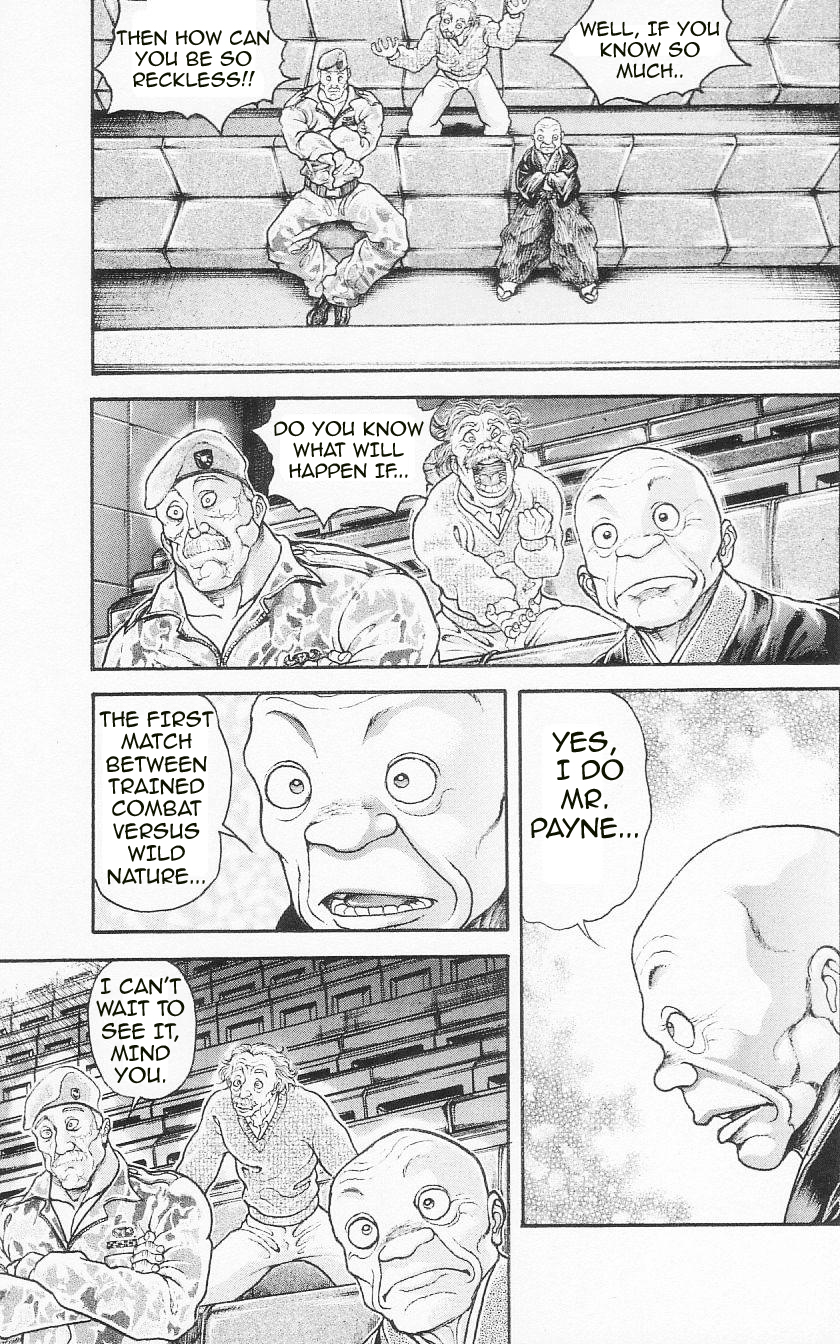Baloon: (504, 690, 651, 947), (92, 692, 235, 916), (247, 400, 457, 531), (94, 1, 302, 133), (543, 1, 751, 102), (86, 957, 198, 1106)
Vignetta: (90, 1, 837, 378), (1, 953, 508, 1344), (92, 400, 840, 665), (523, 685, 840, 1223), (94, 686, 504, 929)
